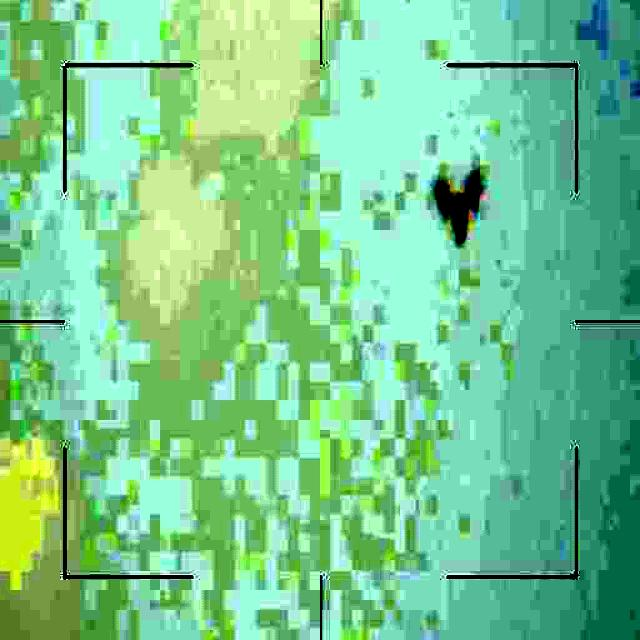bird: (435, 174, 488, 246)
